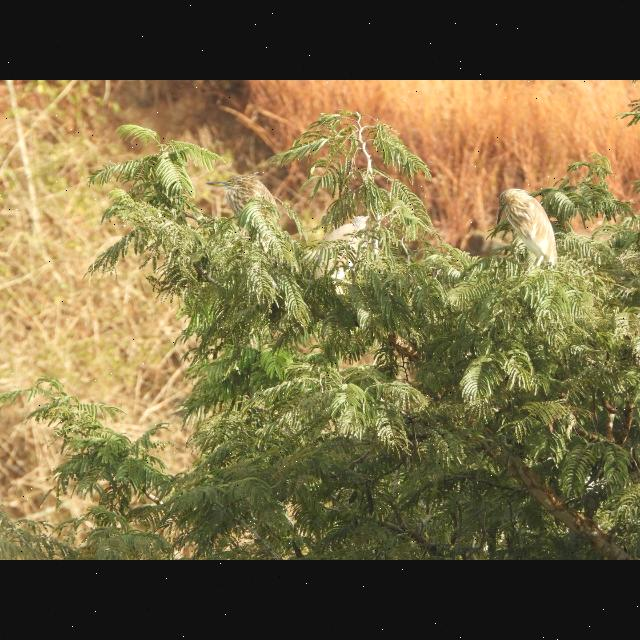heron: (490, 189, 560, 279)
